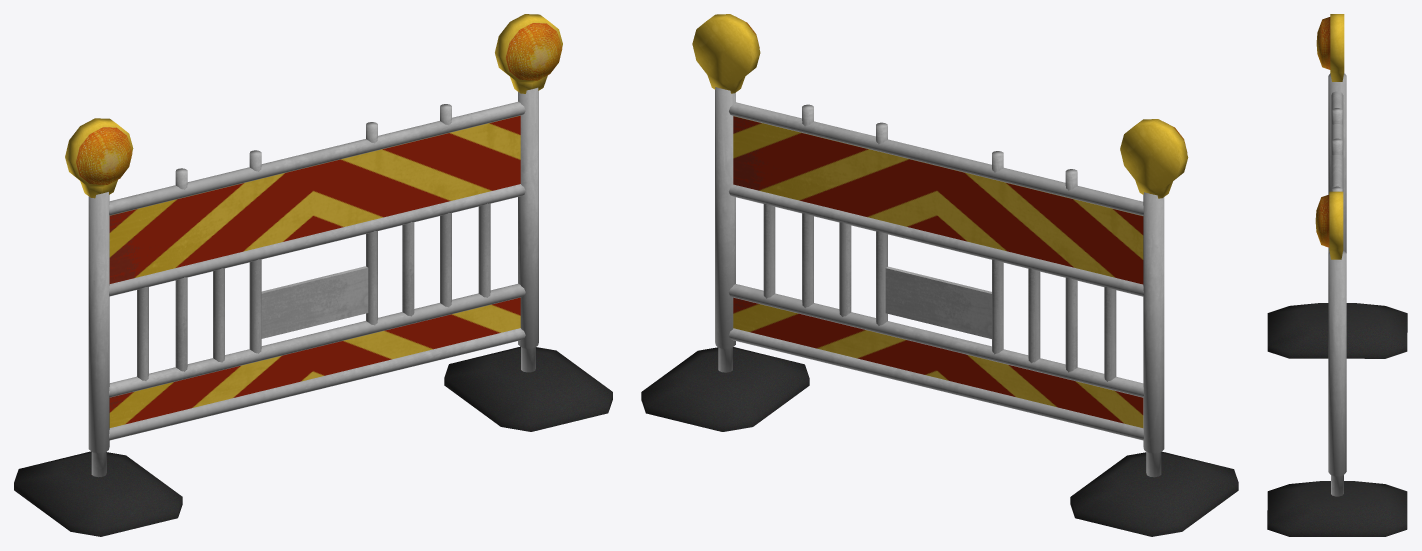
File: MenuFence.fbx
3 views of the same model, side by side, from view 1: azimuth 30°, elevation 25°; view 2: azimuth 150°, elevation 25°; view 3: azimuth 270°, elevation 25° (orthographic). The views are drawn at different scales.
Visible parts, largest first — view 1: fence; view 2: fence; view 3: fence.
Part boxes in pixels (<box>): fence: <box>14,14,612,536</box>; fence: <box>641,14,1238,536</box>; fence: <box>1267,14,1407,536</box>.
Bounding box in the file's own units: 199 × 132 × 52.37.
